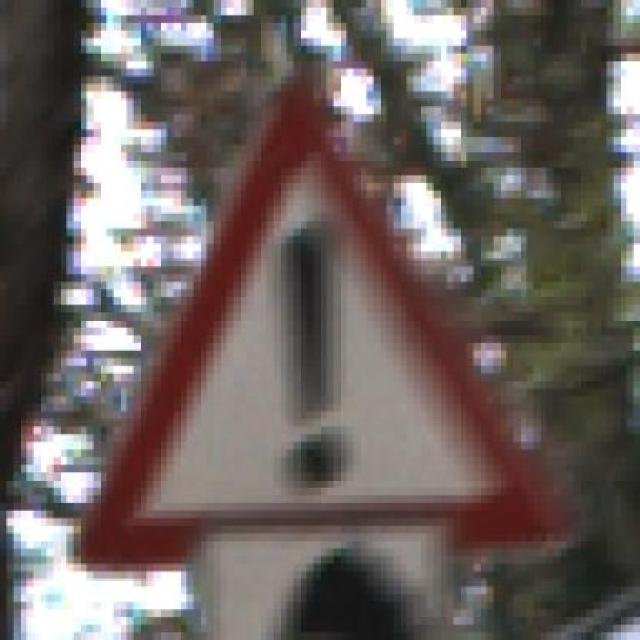Attention Please-: (74, 60, 561, 586)
